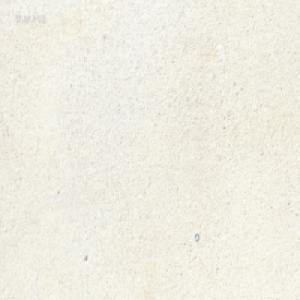Washer: (194, 232, 199, 241)
